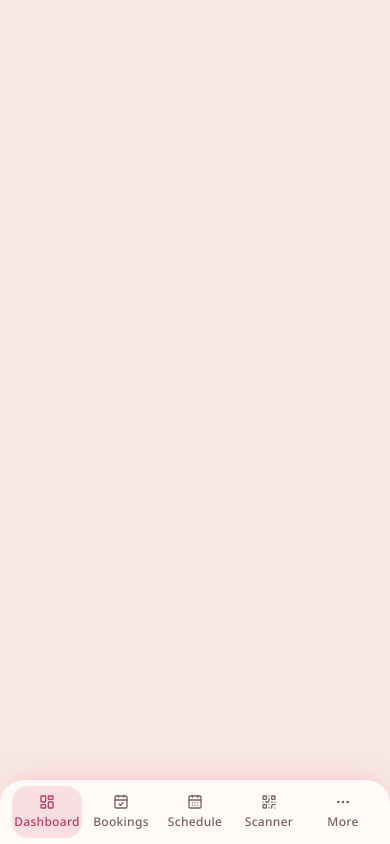
Test case: admin tab bar › has the dashboard as a tab, and Sales first in More
Click the button "More" at (343, 812), box [308,786,378,838]
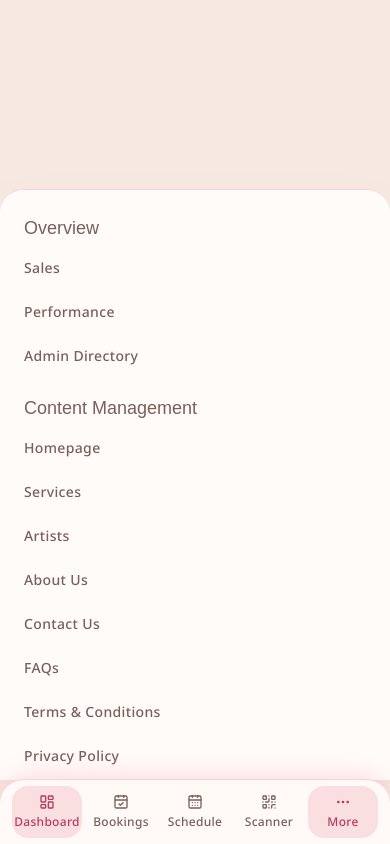
Check: the link "Sales" is shown, box [24,258,60,277]
